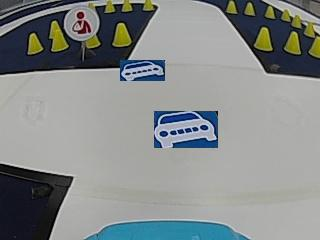cone: (50, 22, 68, 50), (112, 22, 131, 47), (254, 27, 273, 51), (285, 31, 300, 54), (27, 32, 43, 53), (308, 35, 320, 58), (85, 34, 100, 48), (304, 21, 314, 37), (141, 0, 155, 11), (104, 0, 115, 13), (244, 2, 255, 15), (121, 0, 132, 12), (226, 1, 237, 13), (265, 5, 275, 18), (291, 14, 301, 27), (281, 8, 290, 21)
patient: (65, 6, 98, 40)
